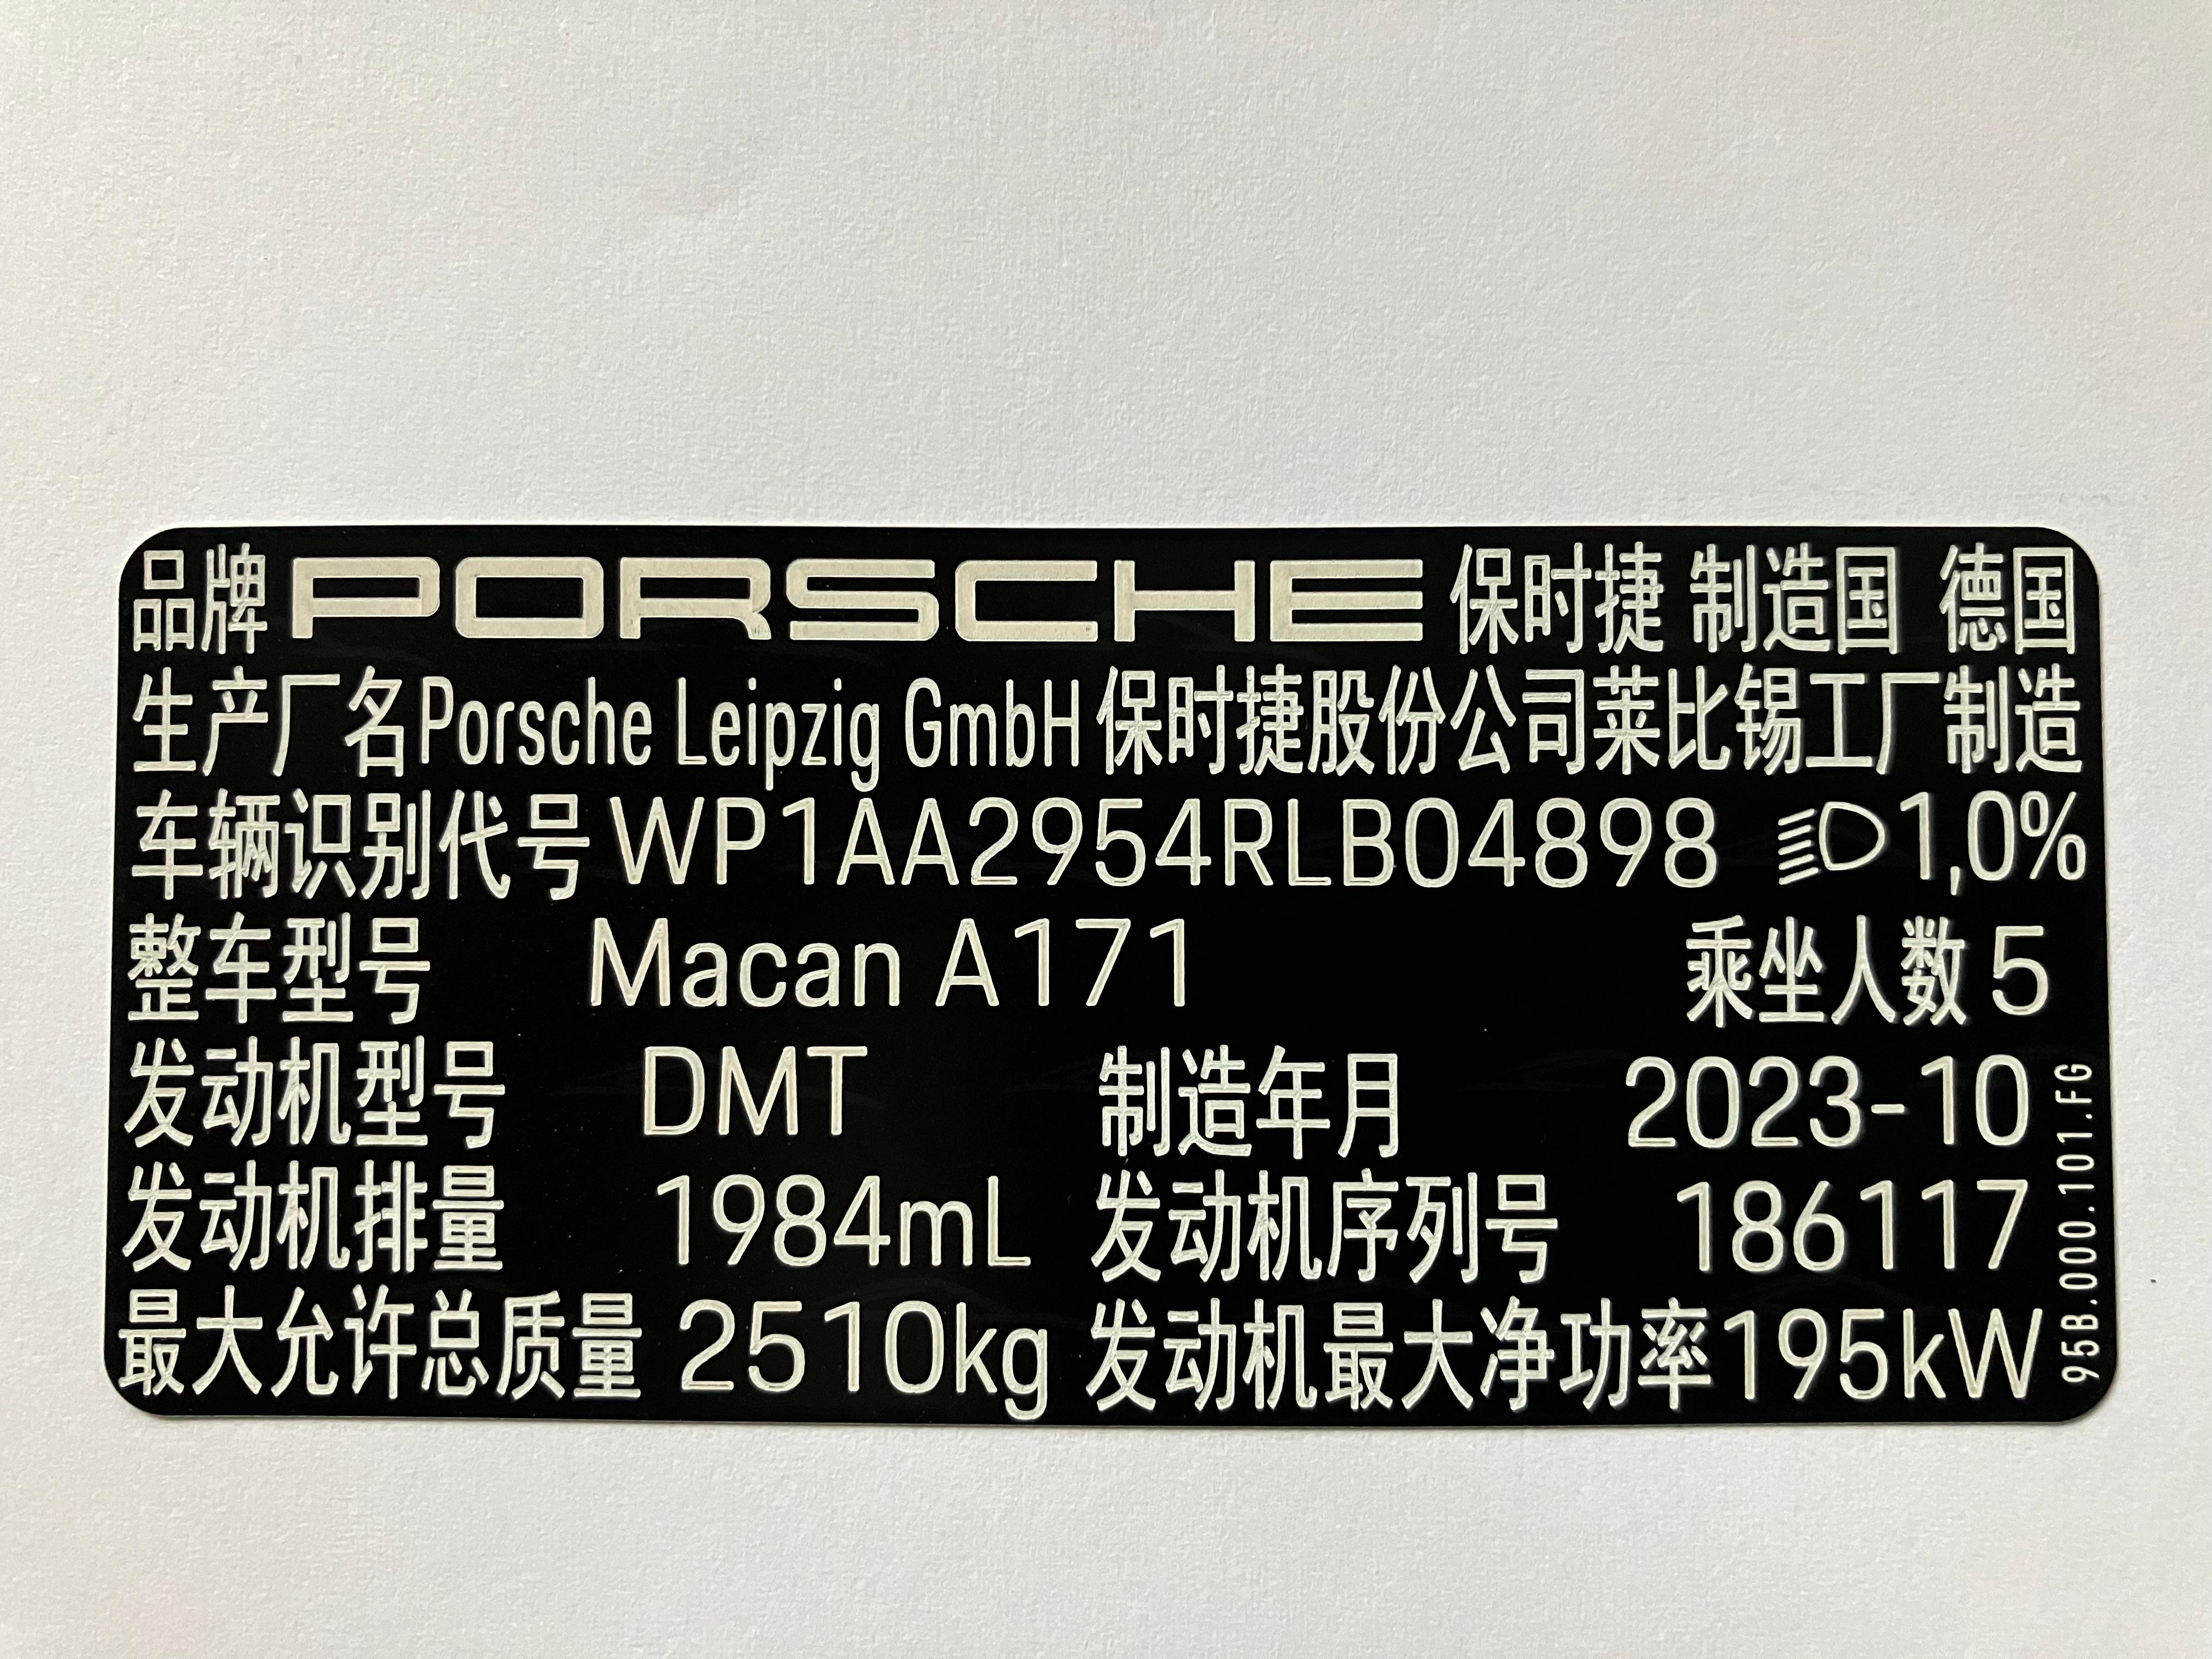Typlabel-China: (103, 526, 2116, 1425)
